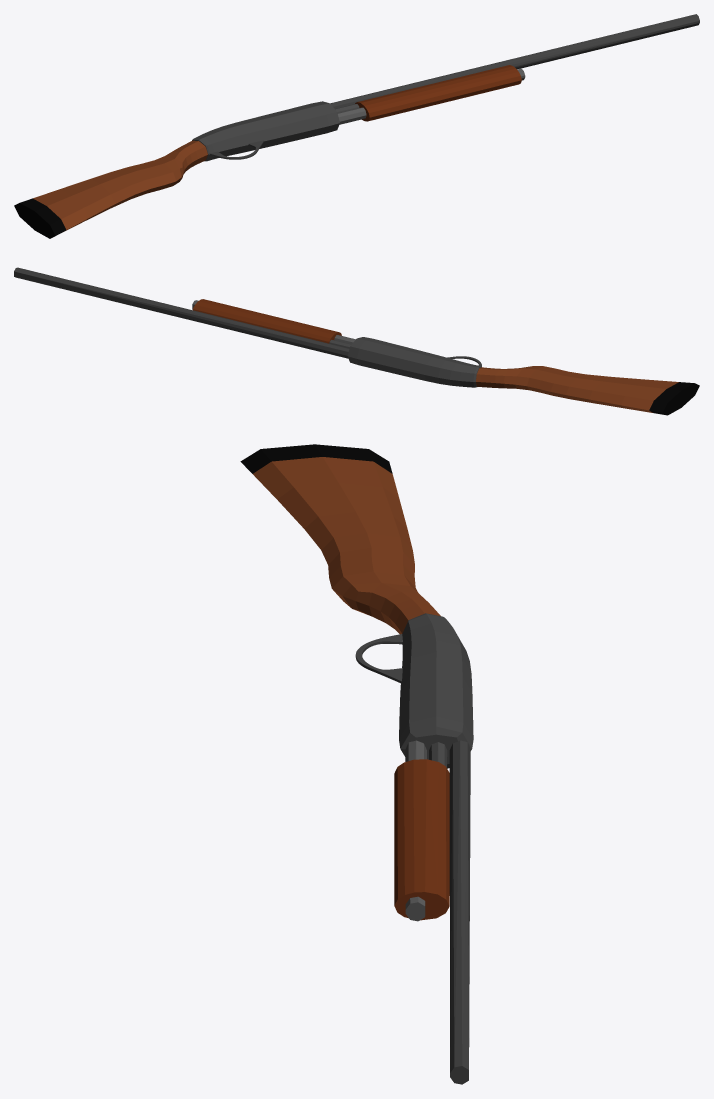
The model's file is shotgun (3).fbx.
The picture shows the model from 3 angles, top to bottom: view 1: azimuth 30°, elevation 25°; view 2: azimuth 150°, elevation 25°; view 3: azimuth 270°, elevation 25°; orthographic projection. The views are drawn at different scales.
Parts seen in each view (by area): view 1: Cube, Cube.001, Cylinder.003, Cylinder, Cylinder.001; view 2: Cube, Cylinder, Cube.001, Cylinder.003; view 3: Cube, Cube.001, Cylinder.003, Cylinder.
Boxes of the visible parts, bbox=[...] form: Cube: bbox=[14, 140, 207, 238]; Cube.001: bbox=[192, 101, 339, 161]; Cylinder.003: bbox=[355, 65, 521, 121]; Cylinder: bbox=[330, 14, 699, 108]; Cylinder.001: bbox=[337, 68, 525, 124]; Cube: bbox=[476, 366, 699, 415]; Cylinder: bbox=[14, 267, 349, 358]; Cube.001: bbox=[347, 337, 481, 387]; Cylinder.003: bbox=[192, 299, 341, 343]; Cube: bbox=[240, 444, 440, 634]; Cube.001: bbox=[399, 613, 473, 768]; Cylinder.003: bbox=[394, 759, 449, 920]; Cylinder: bbox=[449, 740, 470, 1084].
Bounding box in the file's own units: 563 × 19.84 × 90.41.
